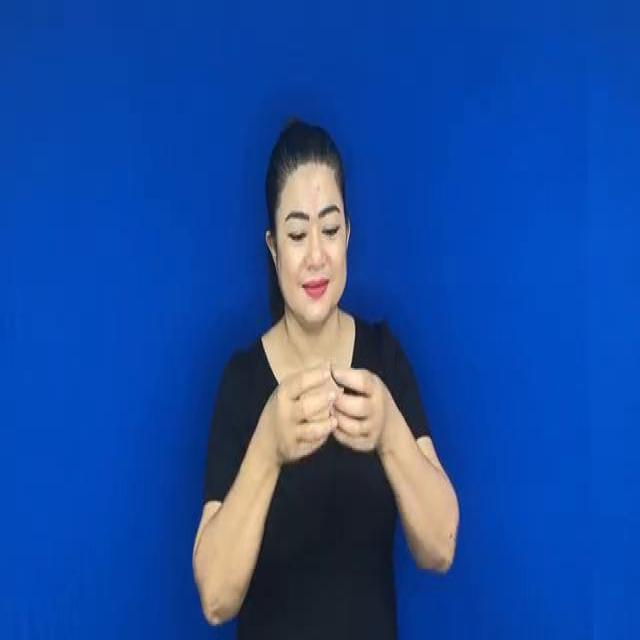egg: (249, 349, 398, 477)
